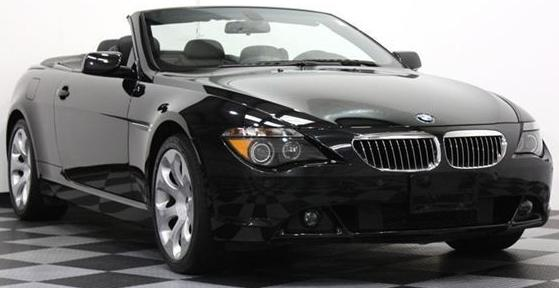front_view: (207, 106, 559, 247)
headlight: (218, 112, 348, 175)
